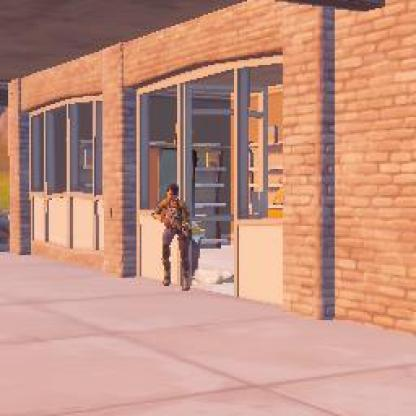dumpster: (151, 182, 195, 291)
